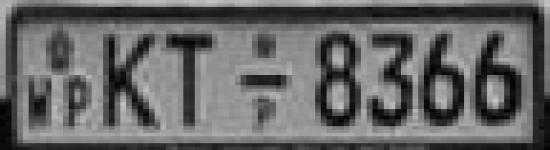-: (233, 70, 294, 93)
3: (366, 30, 418, 130)
6: (471, 29, 528, 130), (419, 30, 470, 131)
8: (309, 29, 365, 130)
K: (97, 30, 164, 133)
P: (64, 74, 95, 134)
T: (164, 31, 219, 132)
W: (22, 73, 59, 136)
